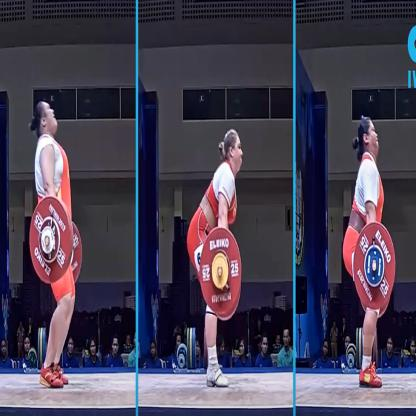Barbell: (25, 185, 87, 288), (193, 223, 250, 325), (348, 216, 399, 318)
